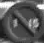No waiting: (3, 1, 41, 39)
